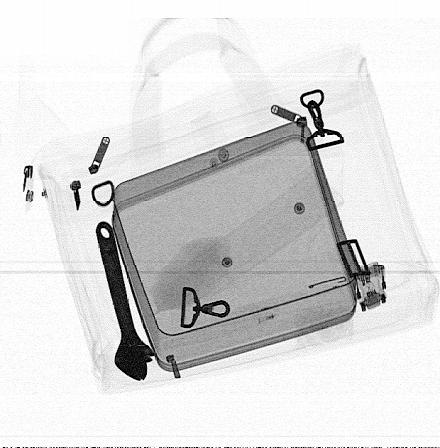Wrench: (94, 218, 154, 385)
